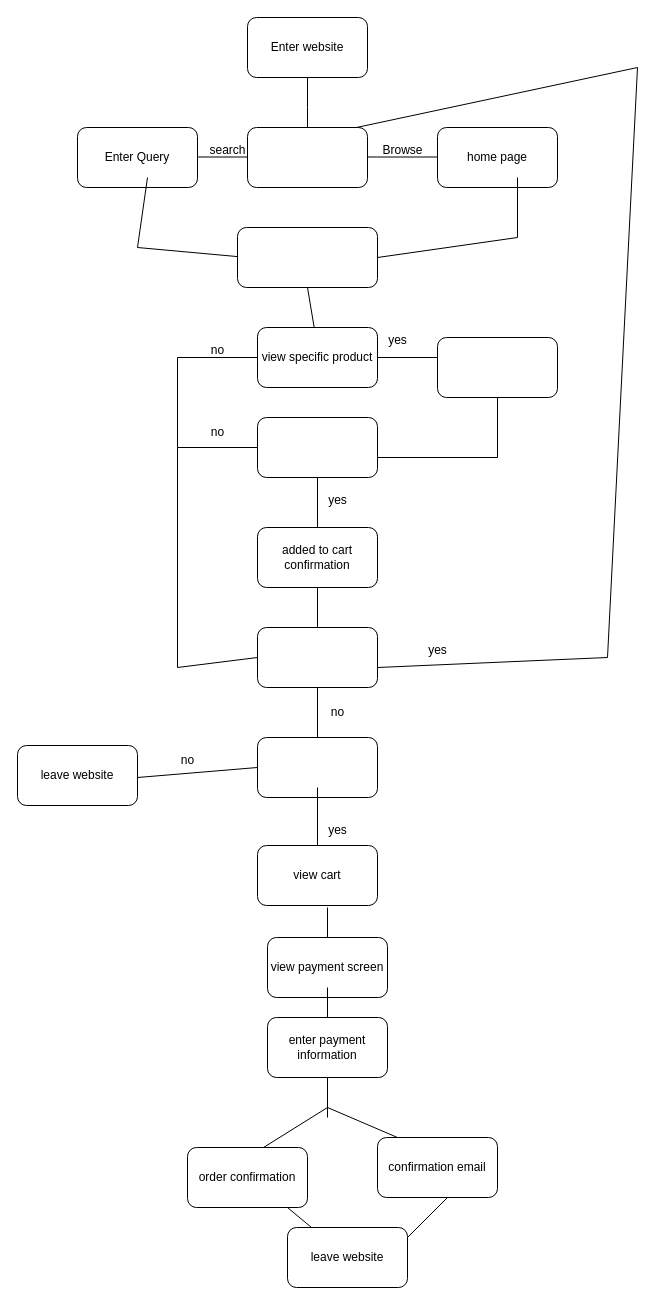
The diagram is 656 pixels wide and 1305 high, and some of its shapes have lost their labels. The shapes that lost their labels are listed below. From the top down, each one's box as (x1, y1, x2, y2) in pixels, then its label:
(246, 126, 368, 188): Search or Browse?
(236, 226, 378, 288): Browse Products
(436, 336, 558, 398): product page
(256, 416, 378, 478): add to cart
(256, 626, 378, 688): continue shopping?
(256, 736, 378, 798): checkout?
